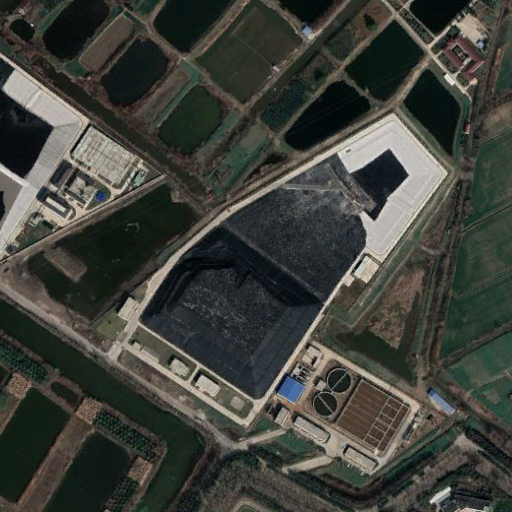lf: (134, 113, 446, 404)
